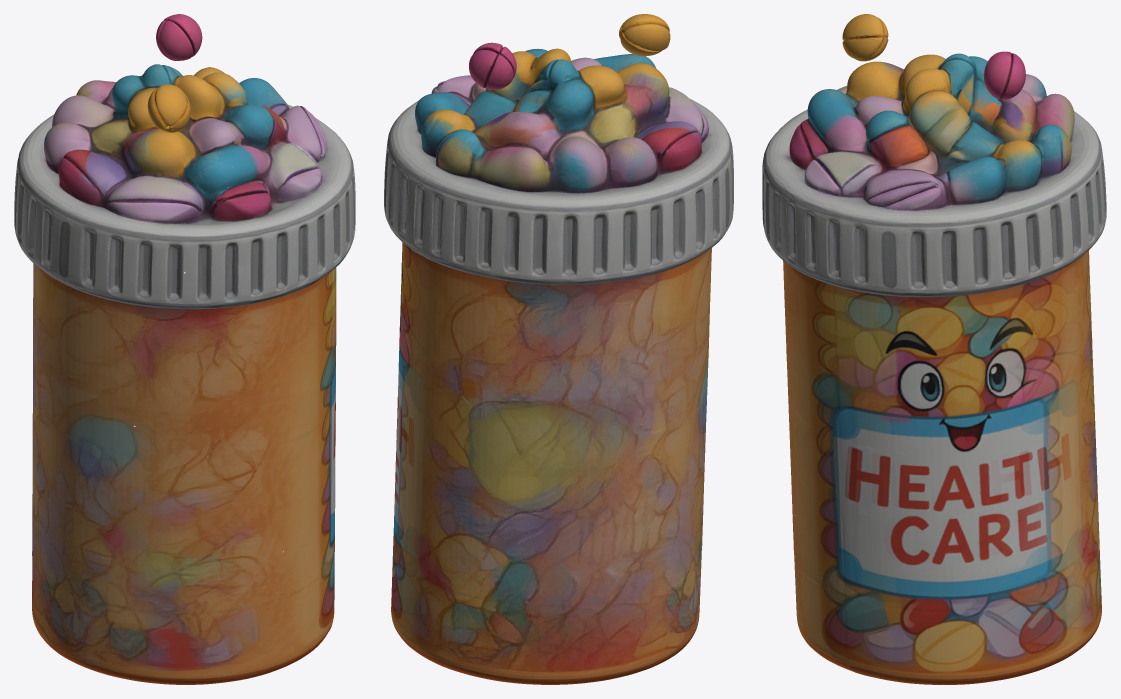
Rendered from pill bottle 3d model.glb.
3 views of the same model, side by side, from view 1: azimuth 30°, elevation 25°; view 2: azimuth 150°, elevation 25°; view 3: azimuth 270°, elevation 25° (orthographic). The views are drawn at different scales.
Parts seen in each view (by area): view 1: tripo_node_773a6b2f-0ee2-4289-b64b-ccb5d061dd5e; view 2: tripo_node_773a6b2f-0ee2-4289-b64b-ccb5d061dd5e; view 3: tripo_node_773a6b2f-0ee2-4289-b64b-ccb5d061dd5e.
Boxes of the visible parts, bbox=[...] form: tripo_node_773a6b2f-0ee2-4289-b64b-ccb5d061dd5e: bbox=[14, 14, 355, 684]; tripo_node_773a6b2f-0ee2-4289-b64b-ccb5d061dd5e: bbox=[384, 14, 733, 684]; tripo_node_773a6b2f-0ee2-4289-b64b-ccb5d061dd5e: bbox=[762, 14, 1106, 684].
Bounding box in the file's own units: 0.528 × 1 × 0.5319.
1 material, 1 textured.
